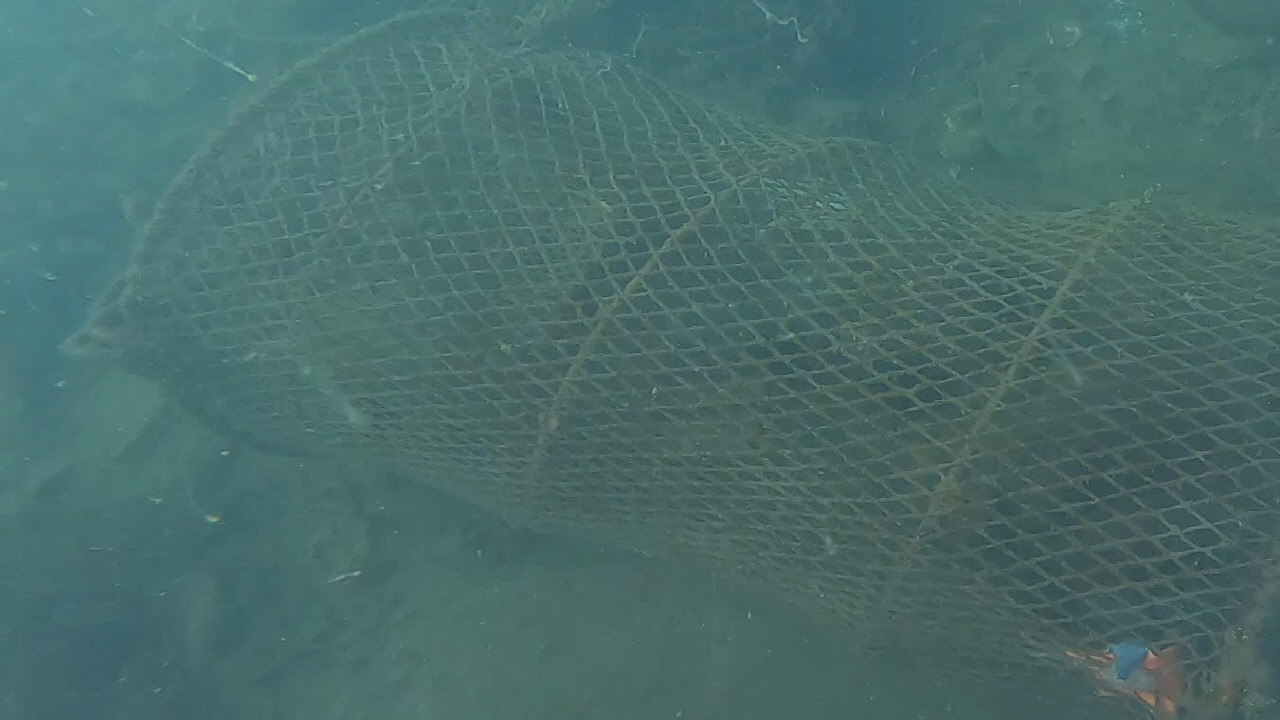spring fish trap: (118, 7, 1280, 720)
